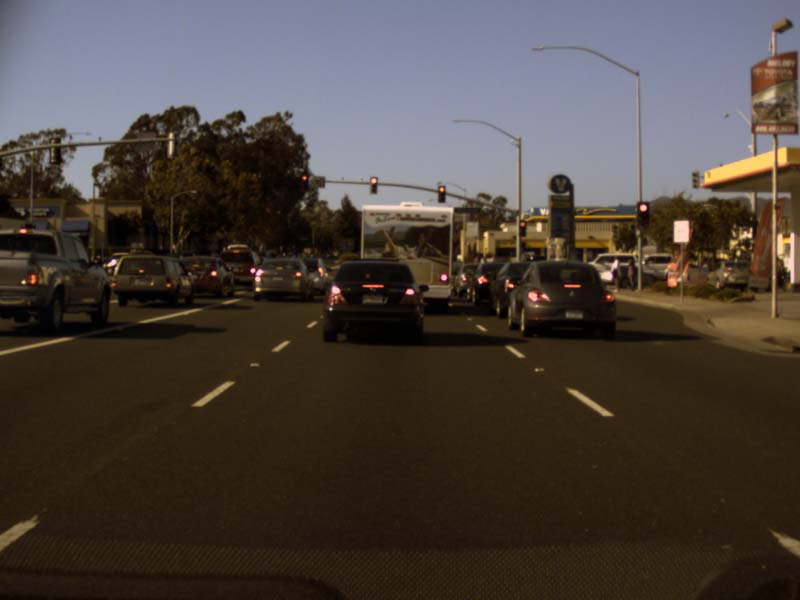Red: (639, 202, 647, 224), (370, 177, 377, 194), (438, 186, 445, 202), (301, 174, 307, 191), (520, 220, 525, 235)
